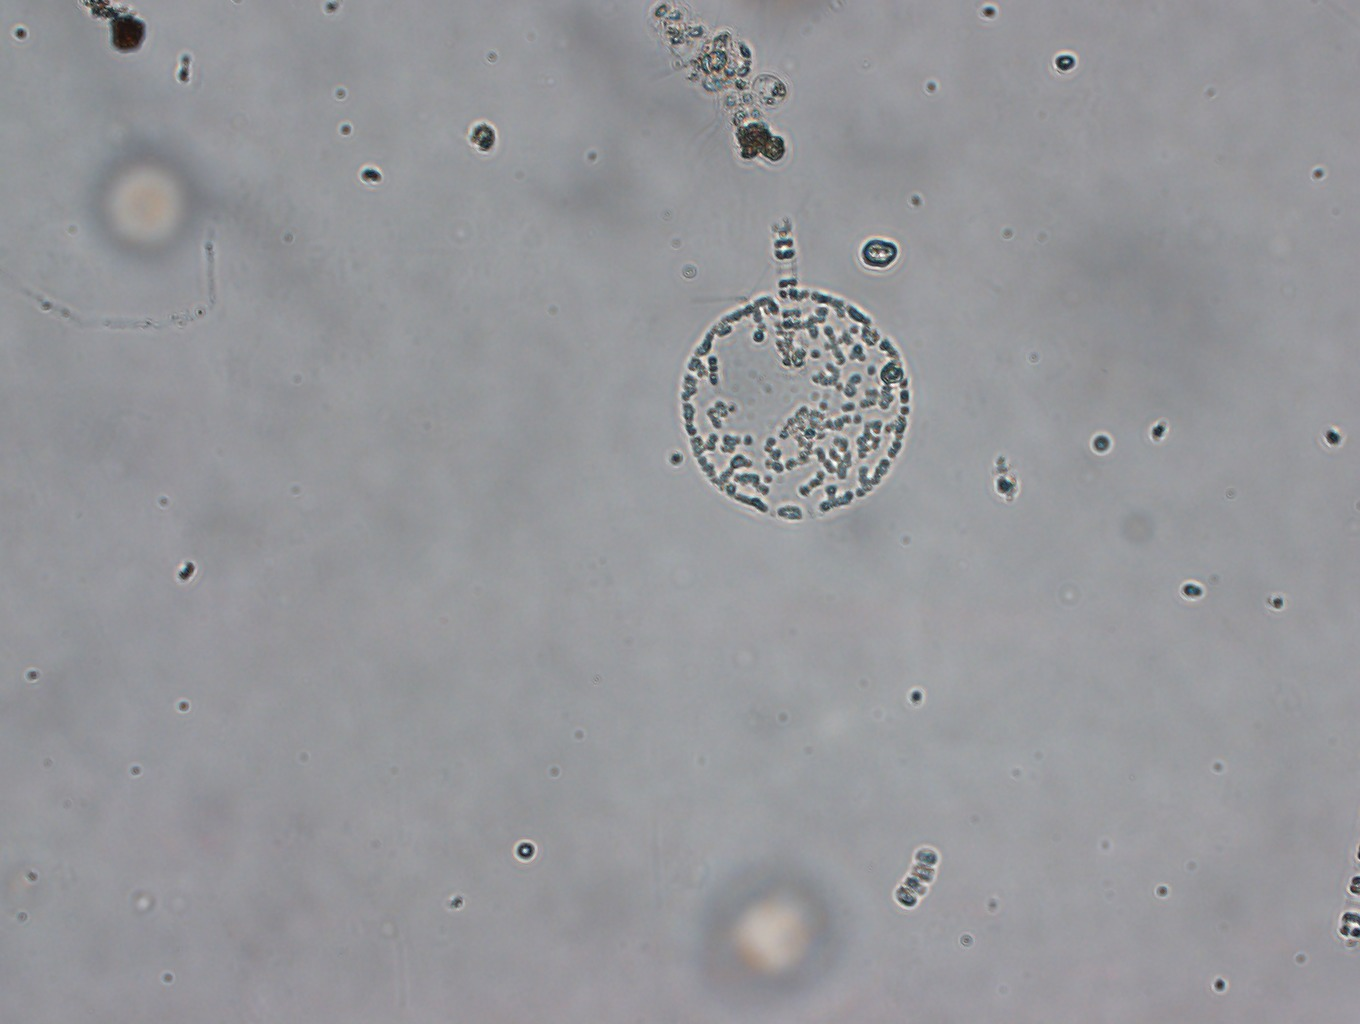coscinodiscus: (677, 285, 910, 524)
